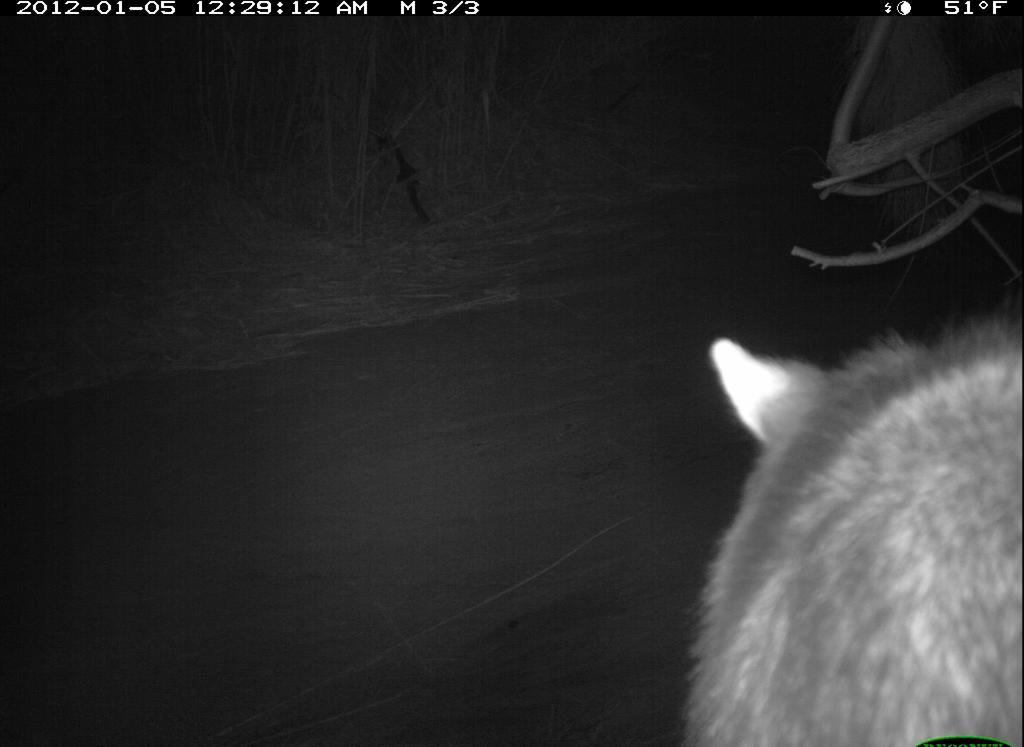raccoon: (658, 306, 1017, 740)
